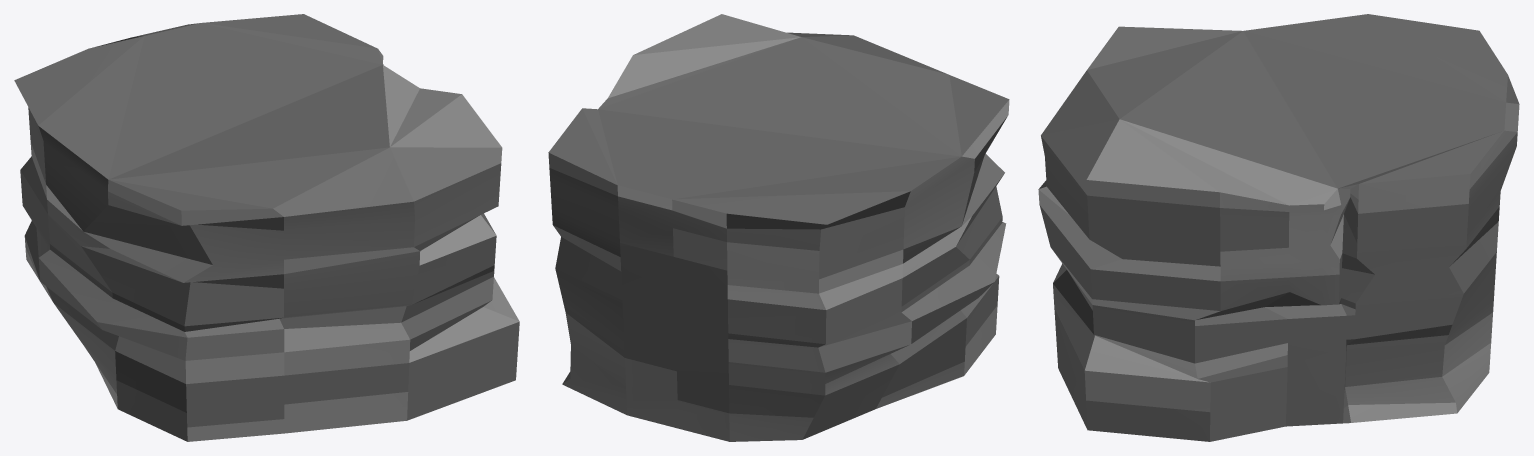
The model's file is SpaceRock4.glb.
The picture shows the model from 3 angles, left to right: view 1: azimuth 30°, elevation 25°; view 2: azimuth 150°, elevation 25°; view 3: azimuth 270°, elevation 25°; orthographic projection. The views are drawn at different scales.
Visible parts, largest first — view 1: cliff_4; view 2: cliff_4; view 3: cliff_4.
Part boxes in pixels (x1=…): cliff_4: x1=14, y1=14, x2=519, y2=441; cliff_4: x1=548, y1=14, x2=1009, y2=441; cliff_4: x1=1038, y1=14, x2=1519, y2=441.
Bounding box in the file's own units: 24.09 × 14.97 × 25.53.
Materials: 1 (1 with a texture image).
